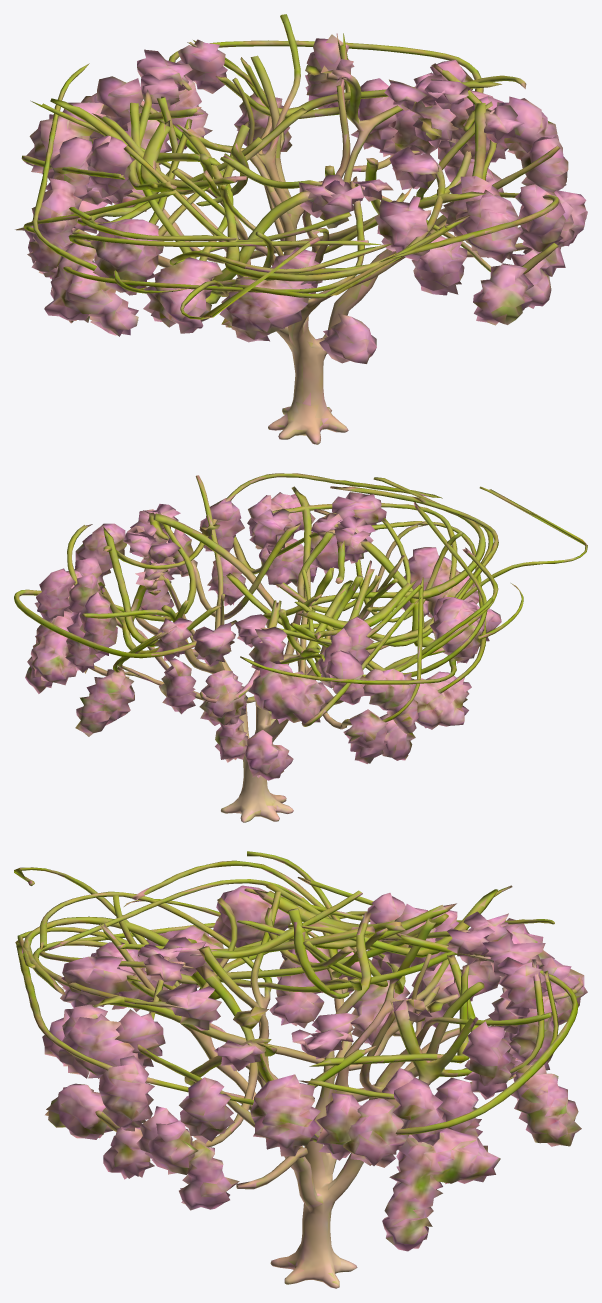
File: crepemyrtle.glb
The picture shows the model from 3 angles, top to bottom: view 1: azimuth 30°, elevation 25°; view 2: azimuth 150°, elevation 25°; view 3: azimuth 270°, elevation 25°; orthographic projection. The views are drawn at different scales.
Bounding box in the file's own units: 1.91 × 1.2 × 1.91.
1 material, 1 textured.
